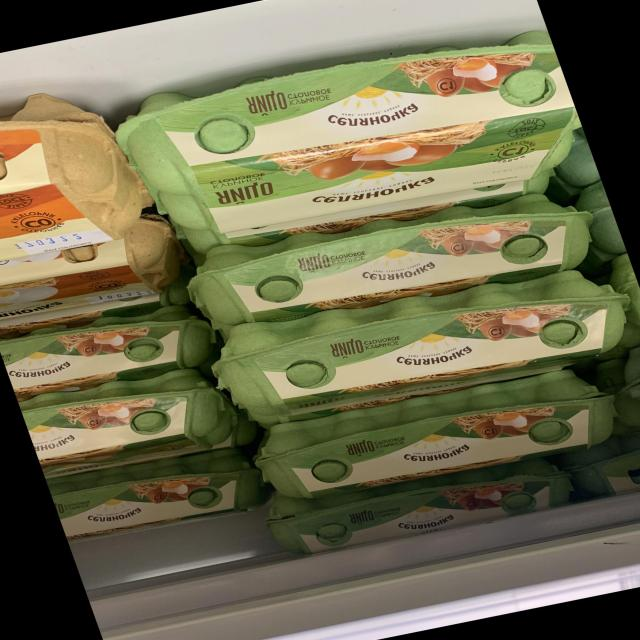organic waste: (100, 20, 595, 254), (195, 252, 640, 434), (172, 177, 610, 337), (238, 356, 635, 509), (262, 450, 581, 563), (0, 81, 156, 270), (18, 361, 244, 481), (0, 295, 226, 401), (47, 444, 269, 548), (0, 229, 191, 327), (568, 423, 640, 502), (617, 333, 640, 430)
